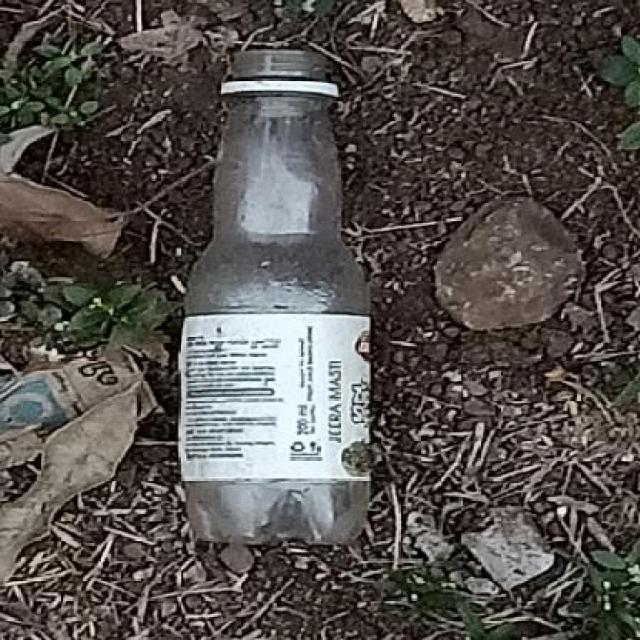garbage: (82, 19, 630, 572)
